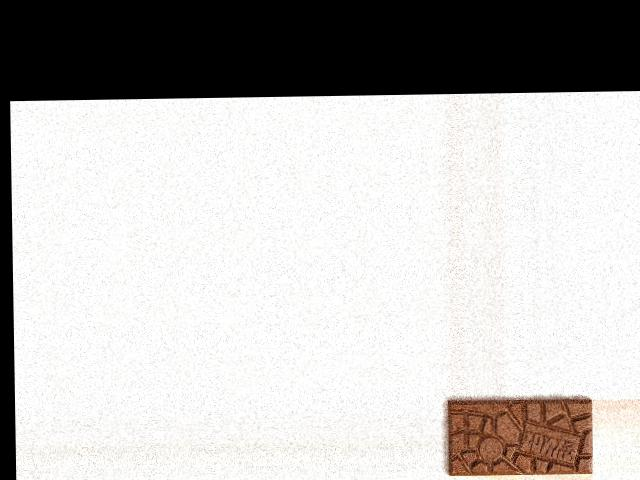chocolate: (446, 394, 594, 475)
